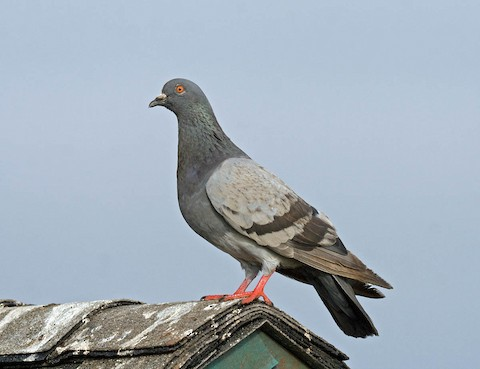pigeon: (143, 72, 398, 346)
